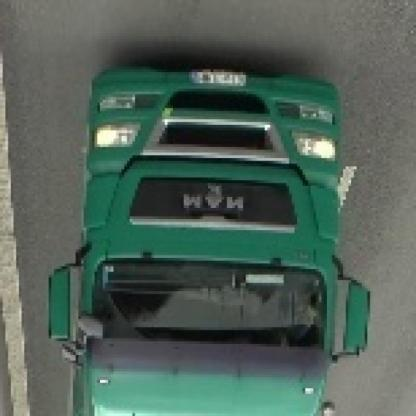truck: (49, 64, 373, 416)
